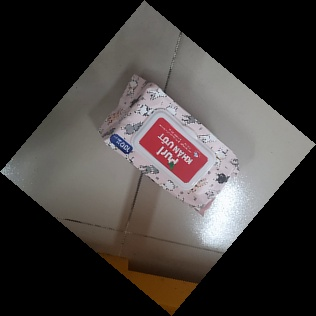Puri hong: (97, 73, 241, 217)
